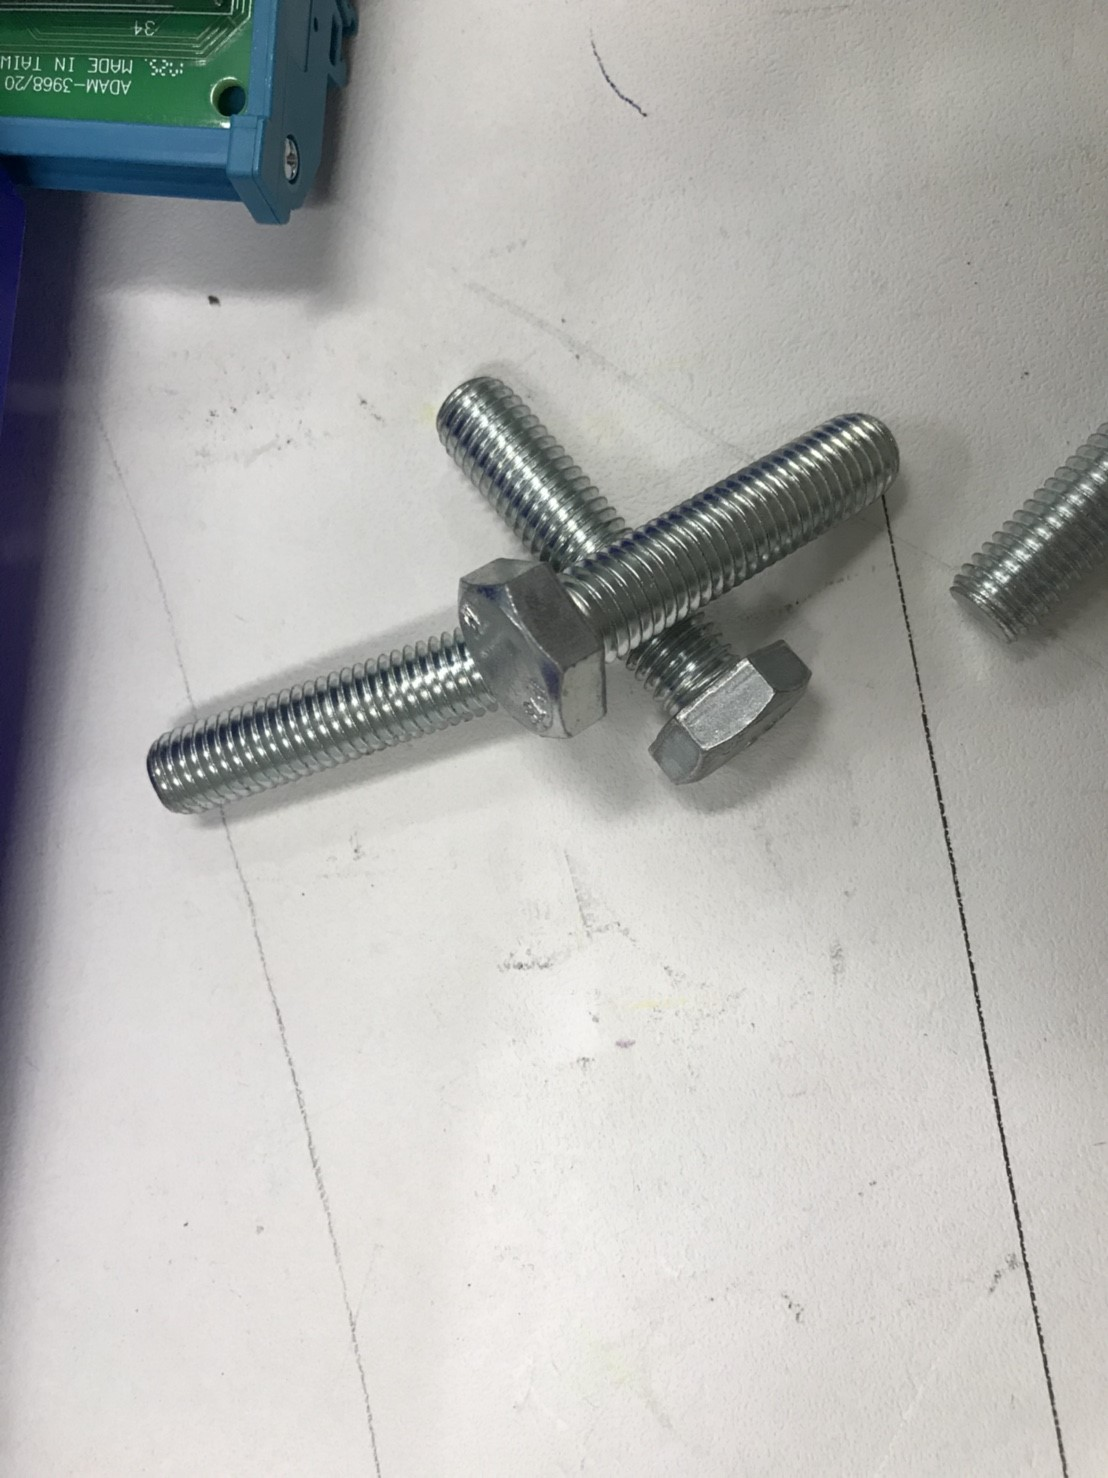screw: (424, 361, 815, 793), (460, 408, 919, 740), (134, 594, 628, 819)
